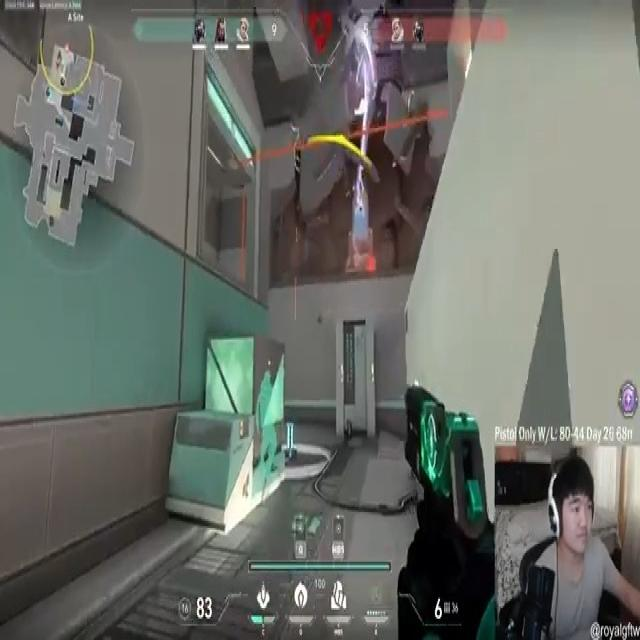spike-planted: (282, 415, 300, 469)
